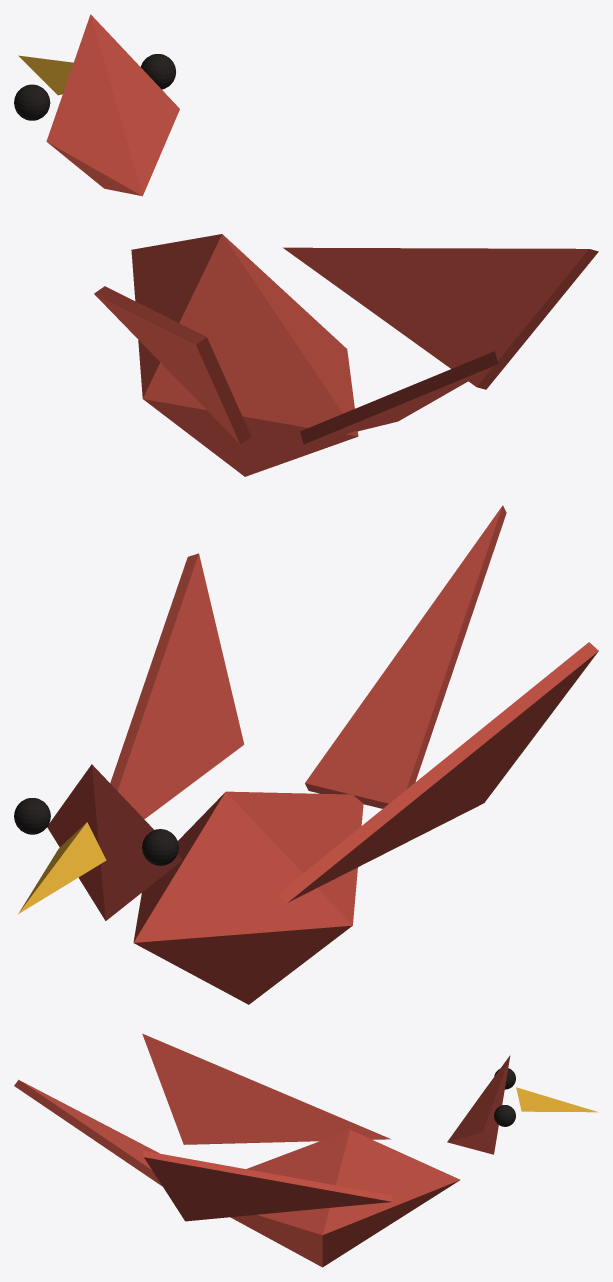
The model's file is bird.glb.
3 renders of one model, top to bottom at view 1: azimuth 30°, elevation 25°; view 2: azimuth 150°, elevation 25°; view 3: azimuth 270°, elevation 25°, orthographic. The views are drawn at different scales.
Parts seen in each view (by area): view 1: body, head; view 2: body, head; view 3: body, head.
Part boxes in pixels (x1,y1,x2,y2): body: [94, 234, 598, 476]; head: [14, 14, 179, 196]; body: [110, 505, 598, 1004]; head: [14, 764, 182, 920]; body: [14, 1033, 460, 1267]; head: [447, 1055, 598, 1154].
Size of the model in its own units: 0.1745 by 0.1445 by 0.3598.
